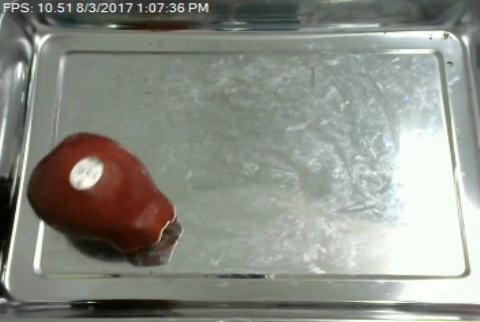Apple: (22, 129, 178, 257)
